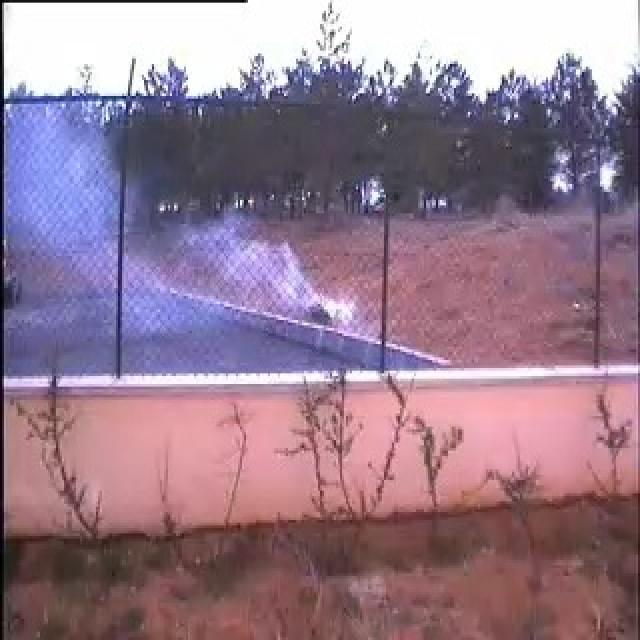smoke: (48, 107, 363, 339)
